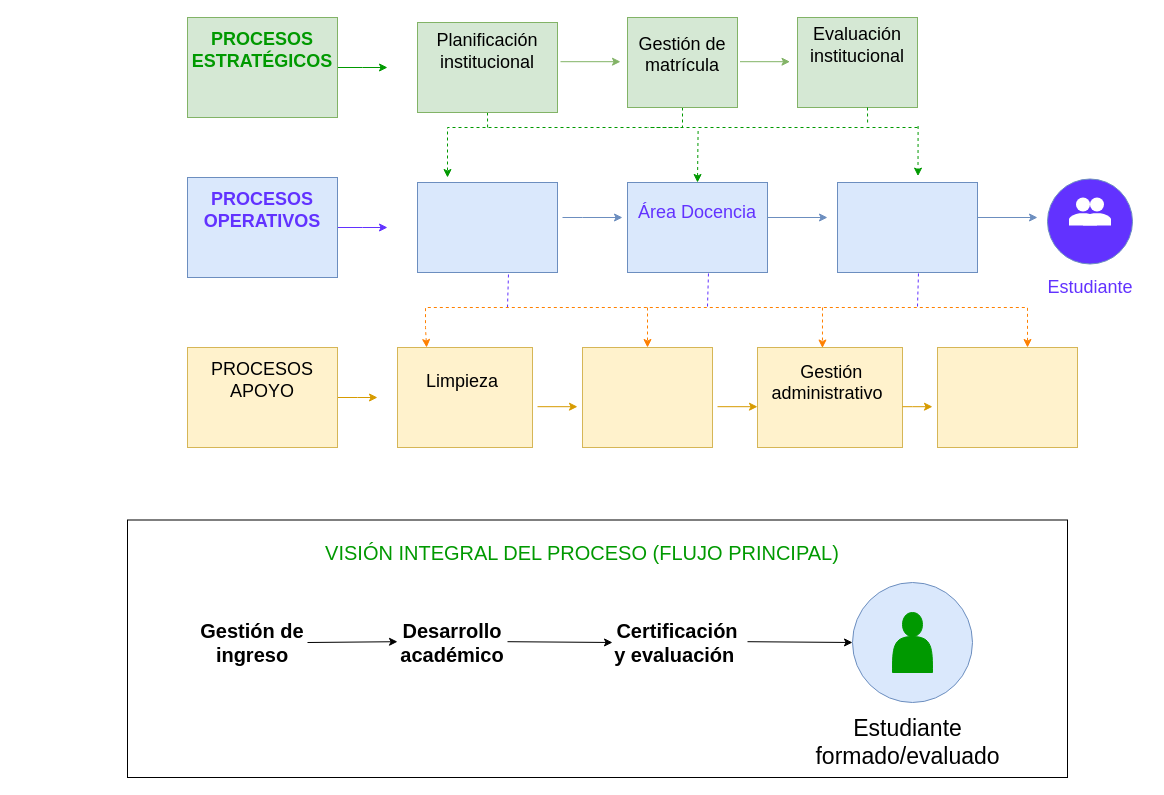
Image size: 1164x795. Some labels were removed from this diagram. Here are the shapes that lost their labels. From the top down, the centre of each, then its label:
At point (487, 227): "Registro académico".
At point (907, 227): "Biblioteca".
At point (647, 397): "Mantenimiento".
At point (1007, 397): "Seguridad".
